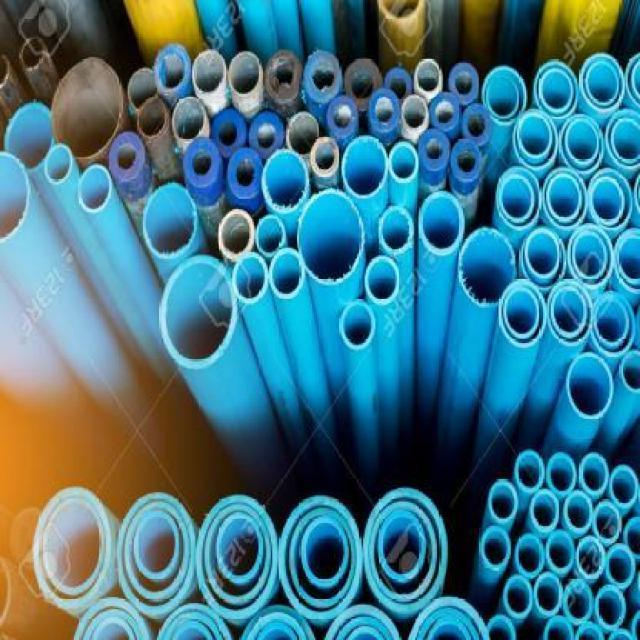pipe: (362, 485, 448, 613), (196, 492, 279, 620), (278, 492, 360, 617), (114, 489, 196, 614), (32, 488, 114, 606), (160, 255, 237, 371), (51, 58, 124, 160), (297, 188, 363, 284), (457, 225, 517, 313), (459, 228, 516, 308), (141, 182, 197, 259), (405, 597, 491, 639), (69, 596, 151, 639), (3, 102, 52, 173), (566, 352, 614, 420), (515, 232, 568, 291), (260, 149, 308, 214), (502, 279, 547, 348), (419, 191, 465, 256), (342, 135, 388, 200), (492, 166, 540, 228), (585, 169, 633, 231), (322, 602, 402, 639), (0, 152, 31, 243), (542, 168, 588, 229), (570, 225, 613, 290), (156, 605, 236, 639), (533, 60, 579, 118), (483, 65, 526, 127), (513, 114, 559, 171), (582, 51, 625, 110), (556, 120, 605, 171), (265, 51, 304, 104), (605, 109, 639, 169), (219, 208, 256, 262), (233, 252, 270, 305), (154, 43, 191, 96), (269, 246, 305, 299), (305, 51, 342, 102), (345, 59, 382, 108), (228, 148, 262, 201), (340, 300, 376, 349), (365, 256, 401, 305), (378, 205, 414, 254), (185, 139, 221, 188), (211, 110, 246, 159), (77, 165, 111, 214), (111, 133, 145, 182), (249, 111, 283, 160), (228, 53, 262, 99), (286, 112, 320, 157), (191, 50, 225, 94), (451, 139, 484, 184), (172, 97, 205, 142), (368, 88, 401, 133), (596, 585, 627, 631), (563, 579, 594, 625), (614, 234, 639, 291), (503, 574, 534, 619), (417, 129, 450, 171), (326, 95, 359, 137), (514, 534, 545, 577), (545, 530, 576, 573), (480, 526, 511, 569), (563, 491, 594, 534), (529, 490, 560, 533), (488, 480, 519, 523), (579, 453, 610, 496), (546, 453, 577, 496), (532, 573, 563, 616), (462, 105, 493, 148), (448, 62, 479, 105), (576, 535, 605, 580), (514, 451, 545, 493), (128, 68, 159, 110), (606, 542, 634, 588), (593, 500, 622, 543), (610, 465, 639, 508), (390, 142, 419, 185), (311, 137, 342, 177), (45, 143, 73, 186), (256, 216, 285, 257), (137, 99, 166, 139), (431, 92, 460, 131), (385, 68, 413, 105), (415, 60, 443, 97), (402, 94, 428, 131), (620, 351, 639, 394), (623, 516, 639, 562), (487, 614, 516, 639), (543, 616, 574, 639)
